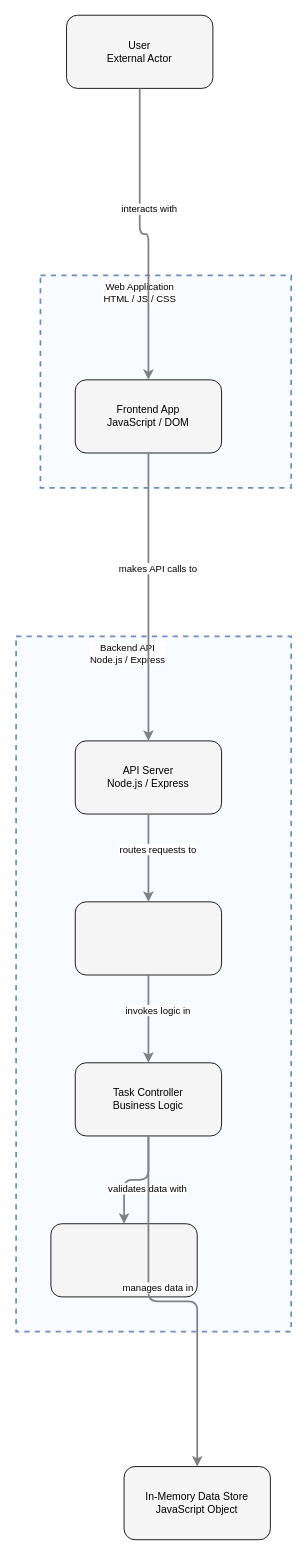
The diagram is 307 pixels wide and 1556 high, and some of its shapes have lost their labels. The shapes that lost their labels are listed below. From the top down, each one's centre as x and y in pixels, then its label:
the point at 148,938: Task Routes Express Router
the point at 123,1260: Task Schema Zod Validation
